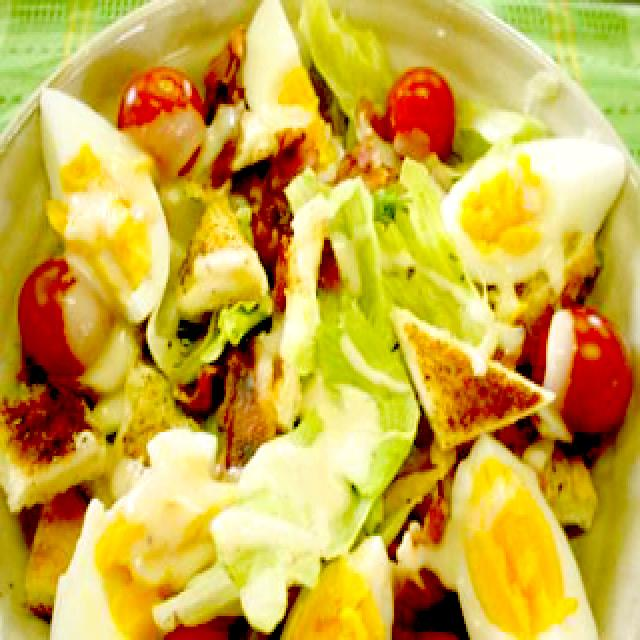蔬菜料理: (8, 8, 636, 635)
